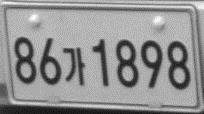1: (91, 37, 109, 88)
6: (38, 37, 61, 86)
8: (114, 38, 139, 87), (166, 39, 190, 90), (13, 36, 37, 83)
9: (140, 38, 163, 88)
가: (61, 46, 86, 87)
